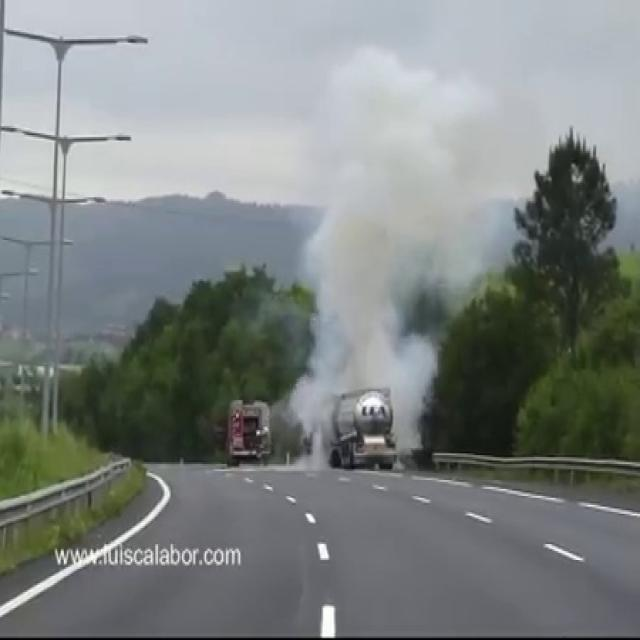Smoke: (287, 14, 499, 459)
